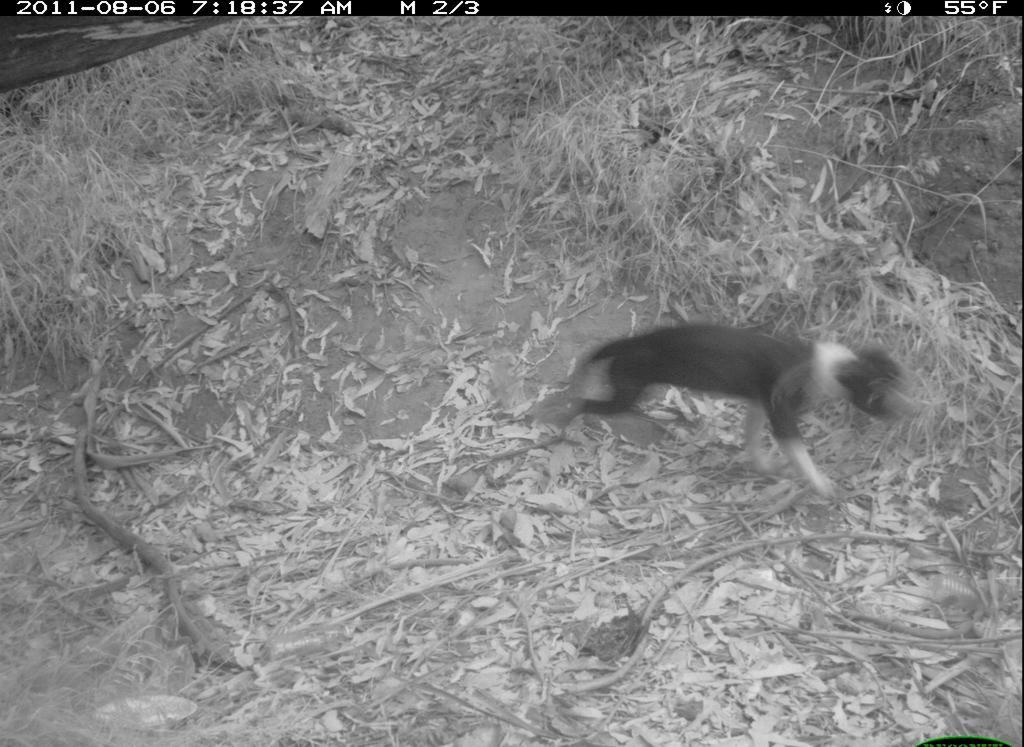dog: (533, 304, 928, 516)
